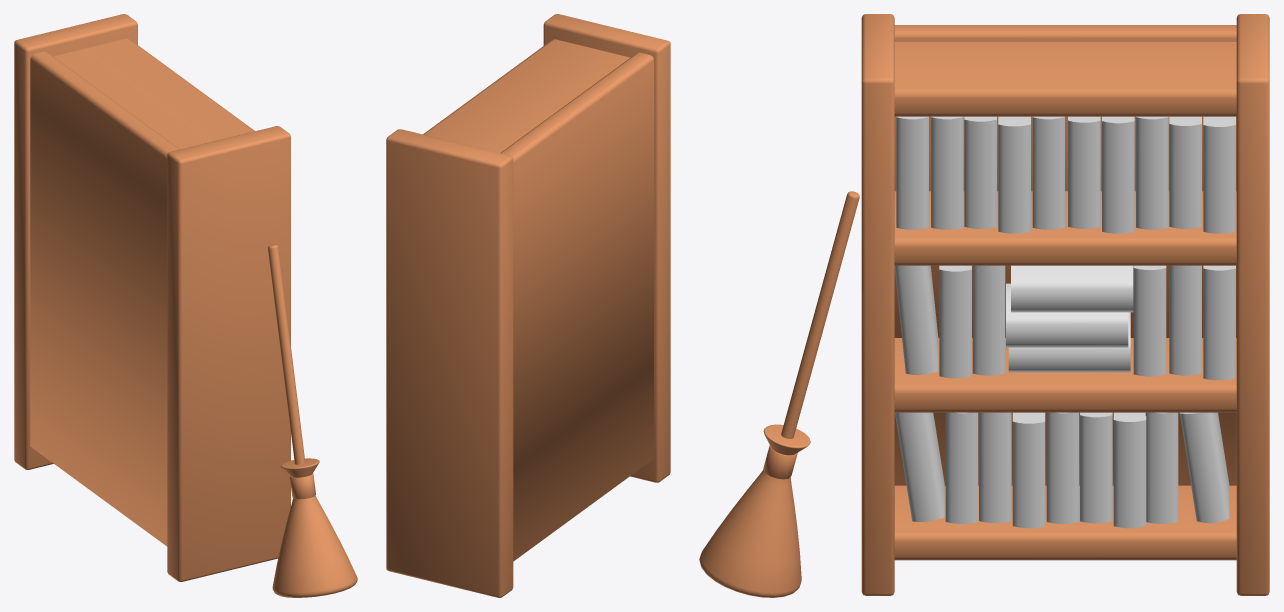
Rendered from BibliothèqueGLB.glb.
The picture shows the model from 3 angles, left to right: view 1: azimuth 30°, elevation 25°; view 2: azimuth 150°, elevation 25°; view 3: azimuth 270°, elevation 25°; orthographic projection. The views are drawn at different scales.
Visible parts, largest first — view 1: Bibliothèque, Balais; view 2: Bibliothèque; view 3: Bibliothèque, Livre, Balais.
Boxes of the visible parts, bbox=[...] form: Bibliothèque: bbox=[14, 14, 290, 581]; Balais: bbox=[268, 244, 357, 597]; Bibliothèque: bbox=[386, 14, 670, 597]; Bibliothèque: bbox=[861, 14, 1269, 595]; Livre: bbox=[894, 116, 1235, 528]; Balais: bbox=[699, 191, 859, 597].
Size of the model in its own units: 0.2213 by 0.7023 by 0.6995.
